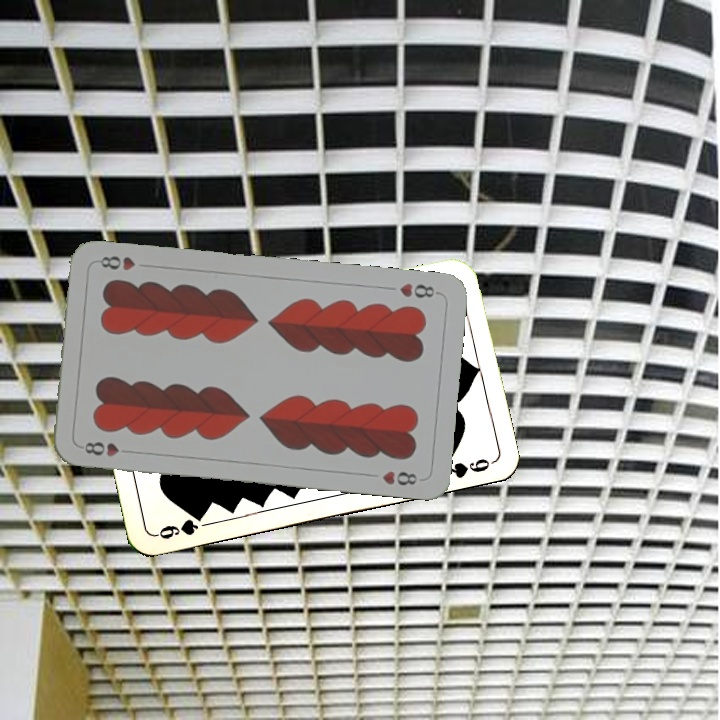G9: (152, 509, 208, 542)
H8: (395, 279, 442, 301), (80, 437, 122, 459)
